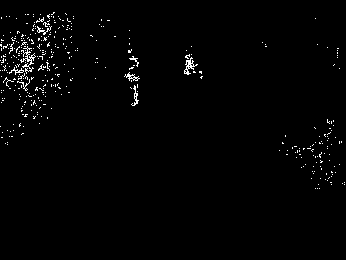person: (126, 54, 144, 105)
